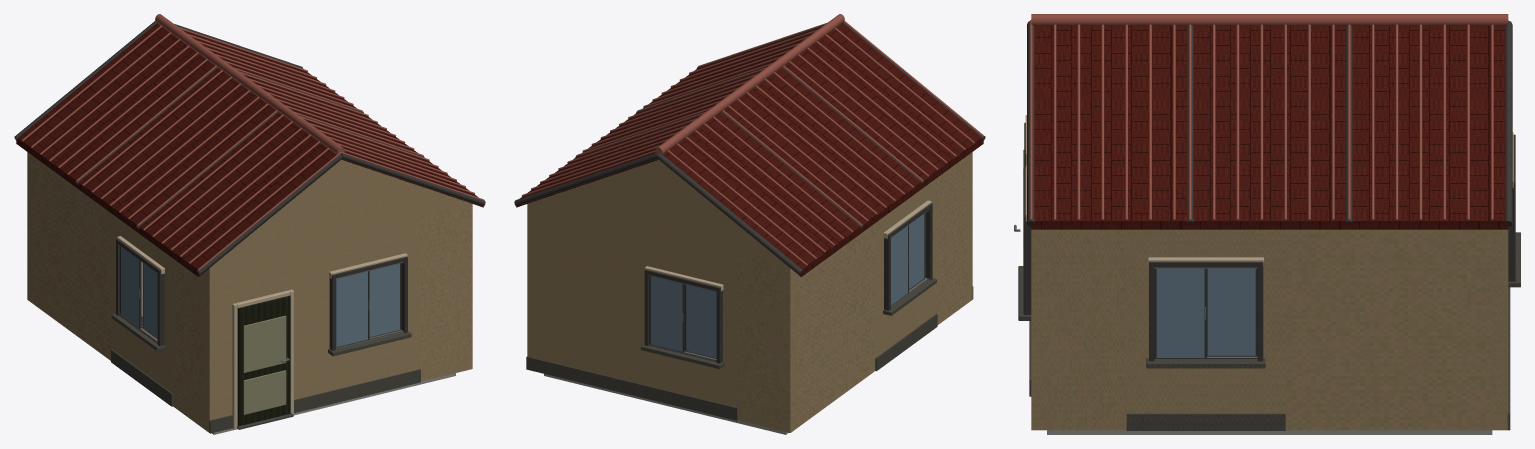
The model's file is MS_RR_A02_BudgetHouse.glb.
The picture shows the model from 3 angles, left to right: view 1: azimuth 30°, elevation 25°; view 2: azimuth 150°, elevation 25°; view 3: azimuth 270°, elevation 25°; orthographic projection. The views are drawn at different scales.
Parts seen in each view (by area): view 1: StaticBatch32, StaticBatch2, StaticBatch23, Plaster_005, StaticBatch42, StaticBatch6, RaisedPanel, StaticBatch3, Leaf_001, Glass_001, Glass, Frame_004 (+7 smaller); view 2: StaticBatch2, StaticBatch32, StaticBatch23, StaticBatch42, StaticBatch6, StaticBatch3, Glass_0012, Glass2, StaticBatch4, Frame2, Frame3, Glass_0013 (+4 smaller); view 3: StaticBatch32, StaticBatch2, StaticBatch23, StaticBatch3, StaticBatch6, Glass_0014, Glass4, Frame4, StaticBatch5, Frame, StaticBatch, Frame2 (+2 smaller).
Boxes of the visible parts, x1=… form: StaticBatch32: x1=16, y1=23, x2=483, y2=276; StaticBatch2: x1=27, y1=152, x2=472, y2=428; StaticBatch23: x1=21, y1=14, x2=484, y2=269; Plaster_005: x1=203, y1=242, x2=314, y2=432; StaticBatch42: x1=210, y1=159, x2=471, y2=267; StaticBatch6: x1=14, y1=21, x2=485, y2=275; RaisedPanel: x1=243, y1=315, x2=286, y2=414; StaticBatch3: x1=111, y1=313, x2=420, y2=407; Leaf_001: x1=237, y1=295, x2=290, y2=425; Glass_001: x1=336, y1=271, x2=367, y2=346; Glass: x1=369, y1=263, x2=399, y2=336; Frame_004: x1=232, y1=289, x2=293, y2=429; StaticBatch2: x1=527, y1=156, x2=966, y2=432; StaticBatch32: x1=516, y1=23, x2=983, y2=276; StaticBatch23: x1=521, y1=14, x2=983, y2=265; StaticBatch42: x1=528, y1=159, x2=789, y2=267; StaticBatch6: x1=514, y1=22, x2=985, y2=275; StaticBatch3: x1=631, y1=278, x2=937, y2=420; Glass_0012: x1=651, y1=276, x2=682, y2=351; Glass2: x1=686, y1=284, x2=716, y2=358; StaticBatch4: x1=526, y1=356, x2=631, y2=394; Frame2: x1=644, y1=269, x2=722, y2=363; Frame3: x1=884, y1=203, x2=932, y2=310; Glass_0013: x1=891, y1=226, x2=907, y2=305; StaticBatch32: x1=1031, y1=26, x2=1508, y2=229; StaticBatch2: x1=1031, y1=229, x2=1508, y2=430; StaticBatch23: x1=1029, y1=14, x2=1508, y2=220; StaticBatch3: x1=1018, y1=232, x2=1520, y2=430; StaticBatch6: x1=1027, y1=20, x2=1512, y2=226; Glass_0014: x1=1156, y1=268, x2=1204, y2=357; Glass4: x1=1207, y1=268, x2=1255, y2=355; Frame4: x1=1149, y1=261, x2=1263, y2=361; StaticBatch5: x1=1047, y1=430, x2=1492, y2=434; Frame: x1=1023, y1=168, x2=1031, y2=314; StaticBatch: x1=1025, y1=132, x2=1513, y2=266; Frame2: x1=1508, y1=134, x2=1515, y2=281.
Size of the model in its own units: 5.46 by 4.77 by 6.38.
Materials: 21 (6 with a texture image).
